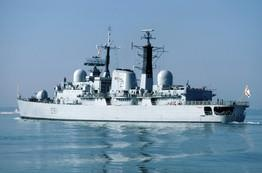warship: (15, 23, 249, 123)
